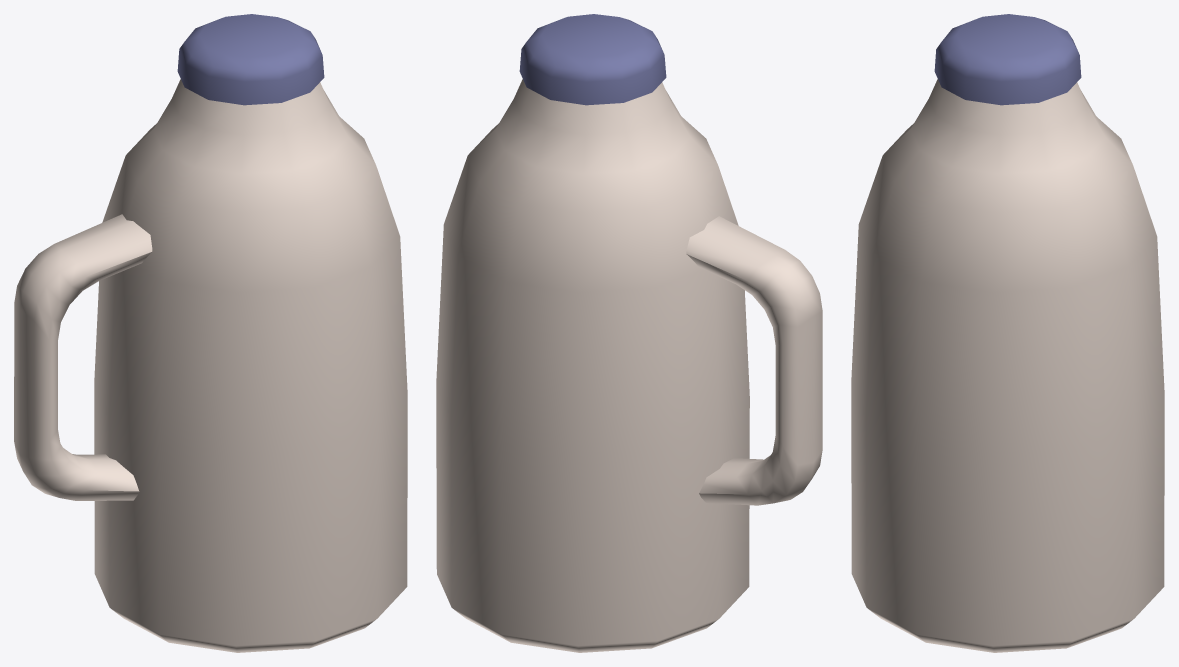
Rendered from Bottle_11.glb.
3 renders of one model, left to right at view 1: azimuth 30°, elevation 25°; view 2: azimuth 150°, elevation 25°; view 3: azimuth 270°, elevation 25°, orthographic.
Visible parts, largest first — view 1: Bottle_11; view 2: Bottle_11; view 3: Bottle_11.
Boxes of the visible parts, box(x1,y1,x2,y2) form: Bottle_11: box(14, 14, 407, 652); Bottle_11: box(436, 14, 822, 652); Bottle_11: box(851, 14, 1164, 652).
Size of the model in its own units: 0.2588 by 0.3834 by 0.1952.
Materials: 1 (1 with a texture image).
